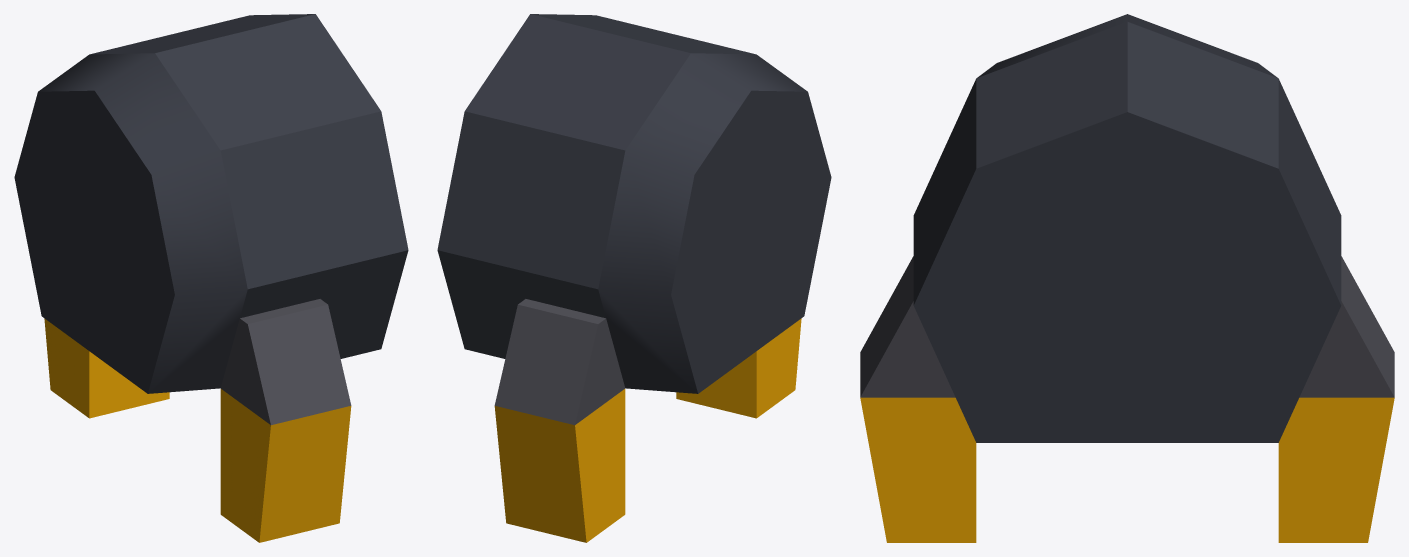
Rendered from Flipper_Holder.fbx.
3 views of the same model, side by side, from view 1: azimuth 30°, elevation 25°; view 2: azimuth 150°, elevation 25°; view 3: azimuth 270°, elevation 25° (orthographic). The views are drawn at different scales.
Parts seen in each view (by area): view 1: steam_engine_front_detail; view 2: steam_engine_front_detail; view 3: steam_engine_front_detail.
Boxes of the visible parts, bbox=[...] form: steam_engine_front_detail: bbox=[14, 14, 408, 542]; steam_engine_front_detail: bbox=[437, 14, 831, 542]; steam_engine_front_detail: bbox=[860, 14, 1394, 542].
Size of the model in its own units: 5.5 by 9.83 by 10.
